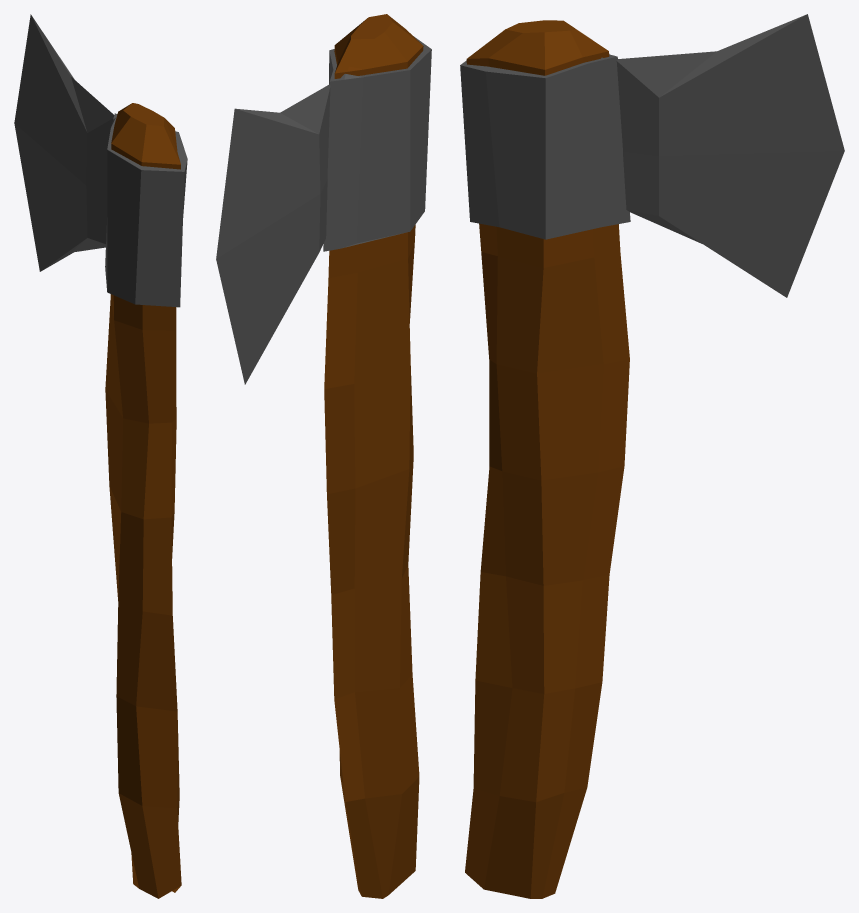
The model's file is axe.fbx.
3 views of the same model, side by side, from view 1: azimuth 30°, elevation 25°; view 2: azimuth 150°, elevation 25°; view 3: azimuth 270°, elevation 25° (orthographic). The views are drawn at different scales.
Parts seen in each view (by area): view 1: Blade; view 2: Blade; view 3: Blade.
Boxes of the visible parts, bbox=[...] form: Blade: bbox=[14, 14, 187, 898]; Blade: bbox=[216, 14, 431, 898]; Blade: bbox=[460, 14, 844, 898].
Bounding box in the file's own units: 17.3 × 180 × 71.18.
